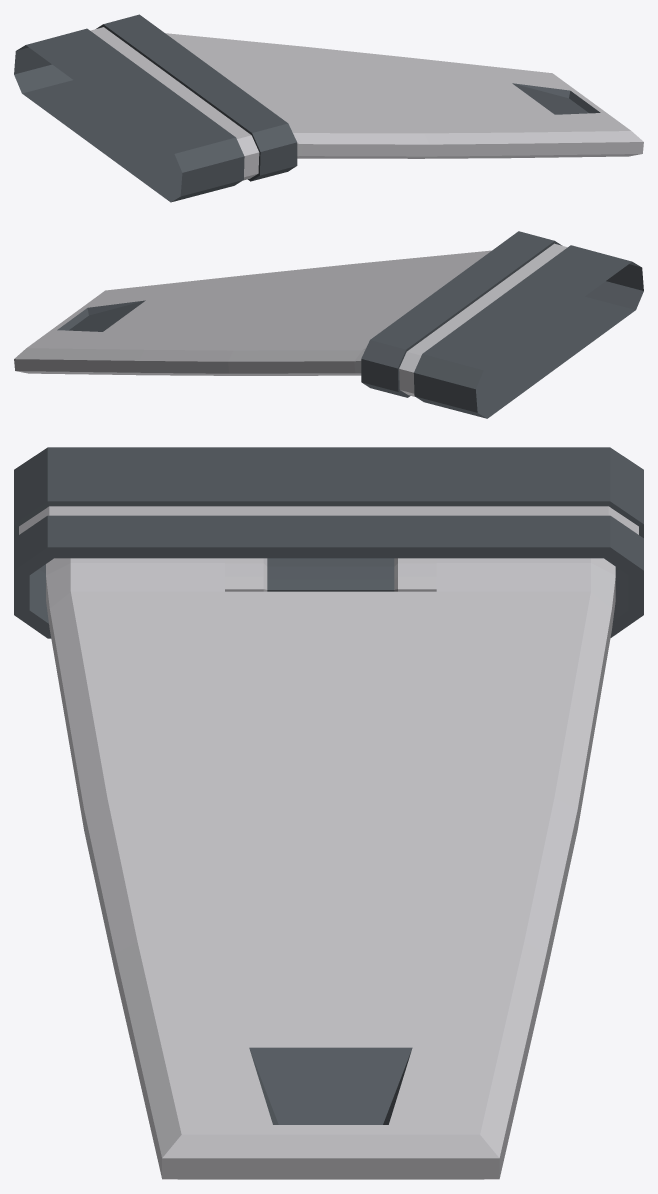
File: Fighter_04_Frontal_Wing_Left.fbx
The picture shows the model from 3 angles, top to bottom: view 1: azimuth 30°, elevation 25°; view 2: azimuth 150°, elevation 25°; view 3: azimuth 270°, elevation 25°; orthographic projection. The views are drawn at different scales.
Parts seen in each view (by area): view 1: Fighter_04_Frontal_Wing_Left; view 2: Fighter_04_Frontal_Wing_Left; view 3: Fighter_04_Frontal_Wing_Left.
Part boxes in pixels (bbox=[...]): Fighter_04_Frontal_Wing_Left: bbox=[14, 14, 643, 202]; Fighter_04_Frontal_Wing_Left: bbox=[14, 231, 643, 418]; Fighter_04_Frontal_Wing_Left: bbox=[14, 447, 643, 1179].
Bounding box in the file's own units: 440 × 126 × 252.
Materials: 1 (1 with a texture image).
